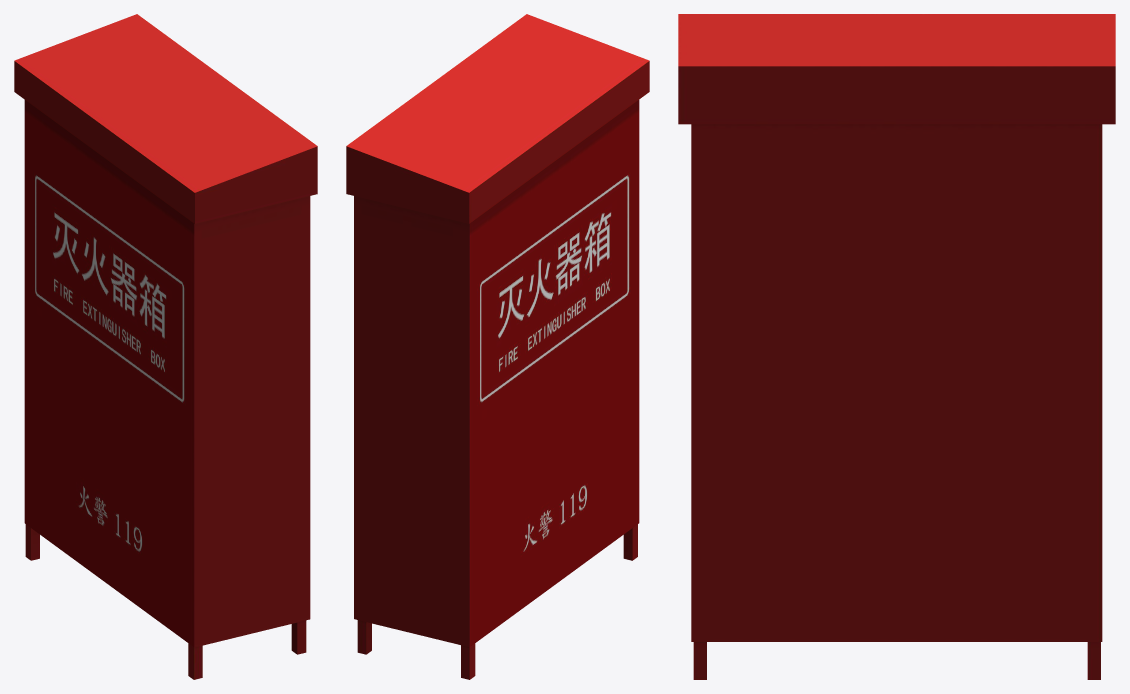
The model's file is firebox.obj.
3 views of the same model, side by side, from view 1: azimuth 30°, elevation 25°; view 2: azimuth 150°, elevation 25°; view 3: azimuth 270°, elevation 25° (orthographic). The views are drawn at different scales.
Visible parts, largest first — view 1: firebox; view 2: firebox; view 3: firebox.
Boxes of the visible parts, x1,y1,x2,y2 form: firebox: (14,14,317,679); firebox: (346,14,649,679); firebox: (678,14,1115,679).
Bounding box in the file's own units: 26.63 × 105 × 67.77.
1 material, 1 textured.
